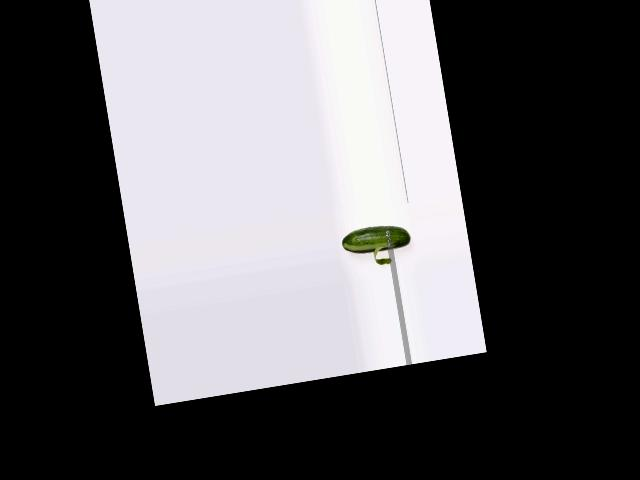cucumber: (340, 221, 412, 258)
